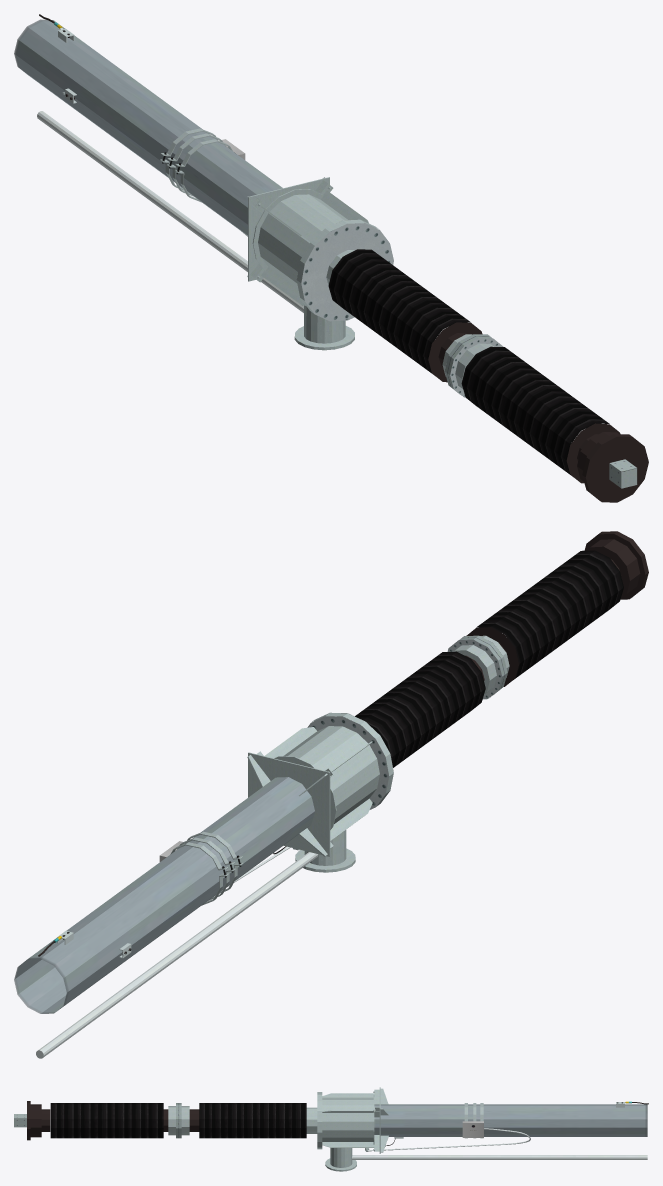
The model's file is pt-11m00000000637359-geode.glb.
3 views of the same model, one above another, from view 1: azimuth 30°, elevation 25°; view 2: azimuth 150°, elevation 25°; view 3: azimuth 270°, elevation 25° (orthographic). The views are drawn at different scales.
Parts seen in each view (by area): view 1: Node; view 2: Node; view 3: Node.
Boxes of the visible parts, x1=… form: Node: x1=14, y1=14, x2=648, y2=502; Node: x1=14, y1=531, x2=648, y2=1058; Node: x1=14, y1=1087, x2=648, y2=1171.
Bounding box in the file's own units: 0.5371 × 0.7225 × 5.92.
Materials: 12 (12 with a texture image).
